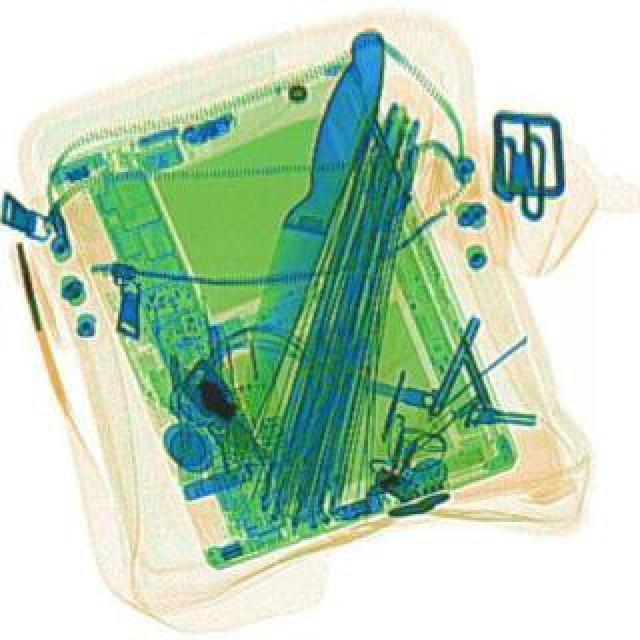knife: (222, 20, 396, 432)
